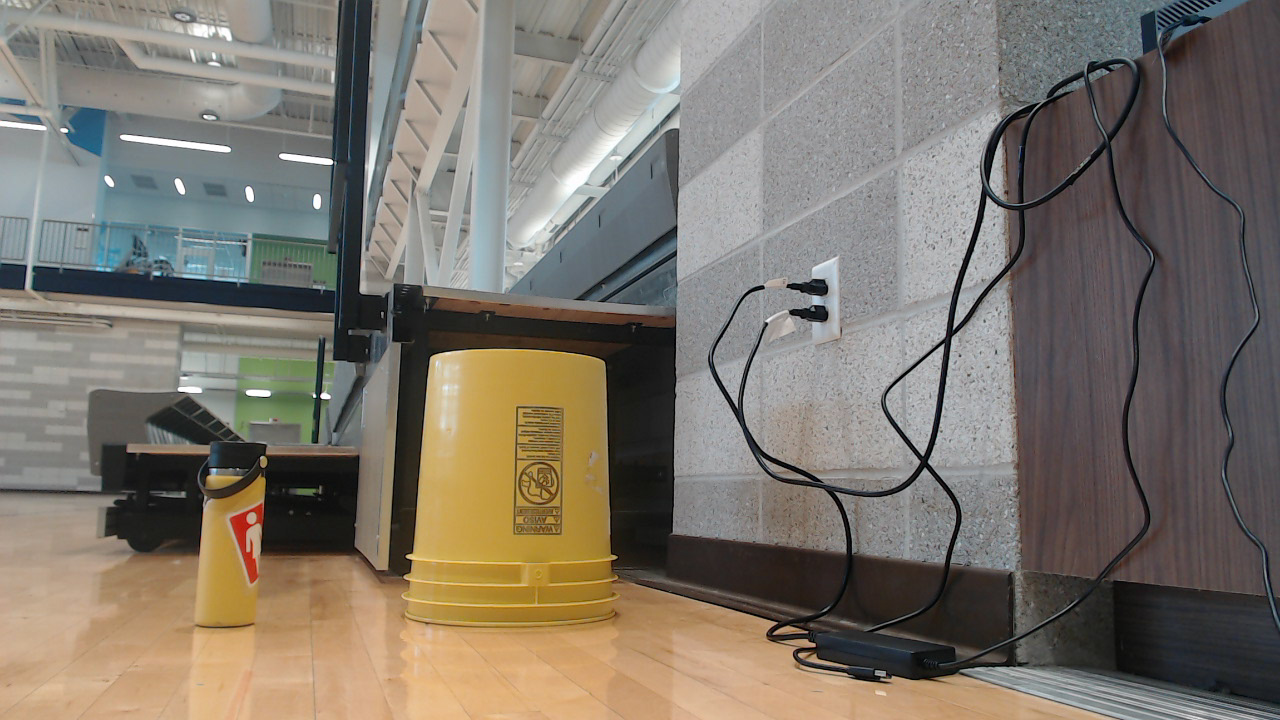yellow_bucket: (399, 349, 629, 639)
